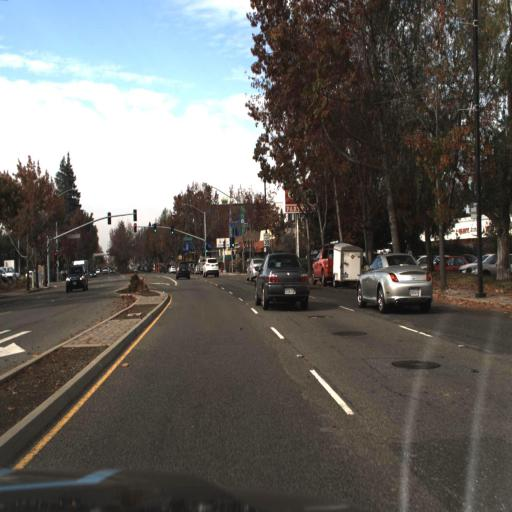car: (357, 250, 433, 311), (253, 250, 315, 318), (307, 229, 362, 294), (309, 245, 365, 285), (244, 252, 262, 291), (63, 264, 88, 292), (173, 259, 194, 282), (202, 256, 220, 277)
